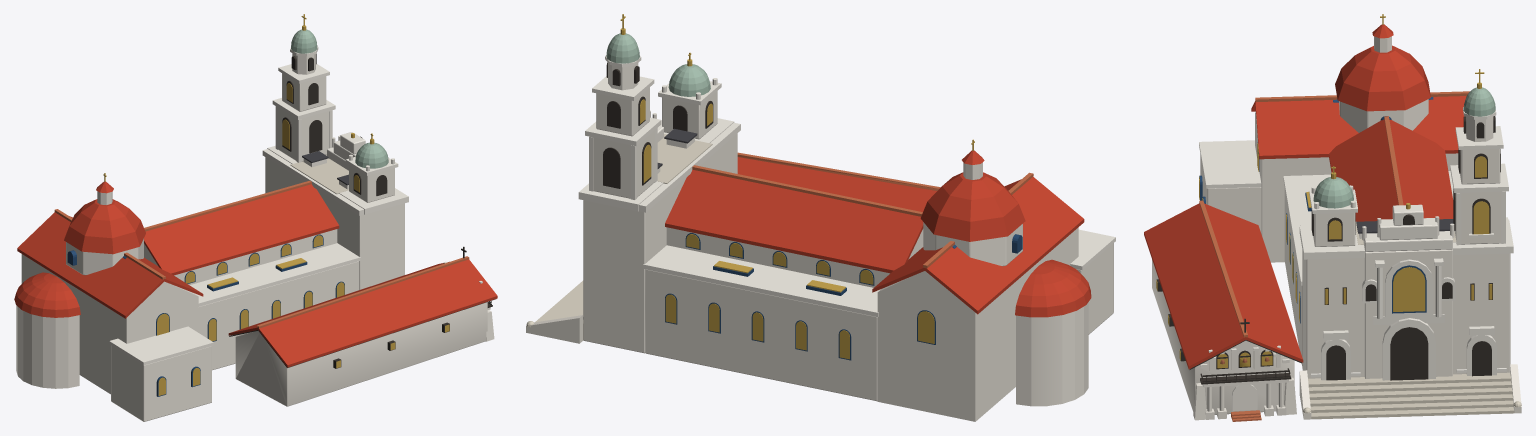
File: mission-dolores.glb
3 renders of one model, left to right at view 1: azimuth 30°, elevation 25°; view 2: azimuth 150°, elevation 25°; view 3: azimuth 270°, elevation 25°, orthographic. The views are drawn at different scales.
Parts seen in each view (by area): view 1: mission-dolores; view 2: mission-dolores; view 3: mission-dolores.
Part boxes in pixels (box(x1,y1,x2,y2)): mission-dolores: box(14, 14, 497, 421); mission-dolores: box(526, 14, 1115, 421); mission-dolores: box(1144, 14, 1521, 421).
Size of the model in its own units: 67.21 by 41 by 45.48.
